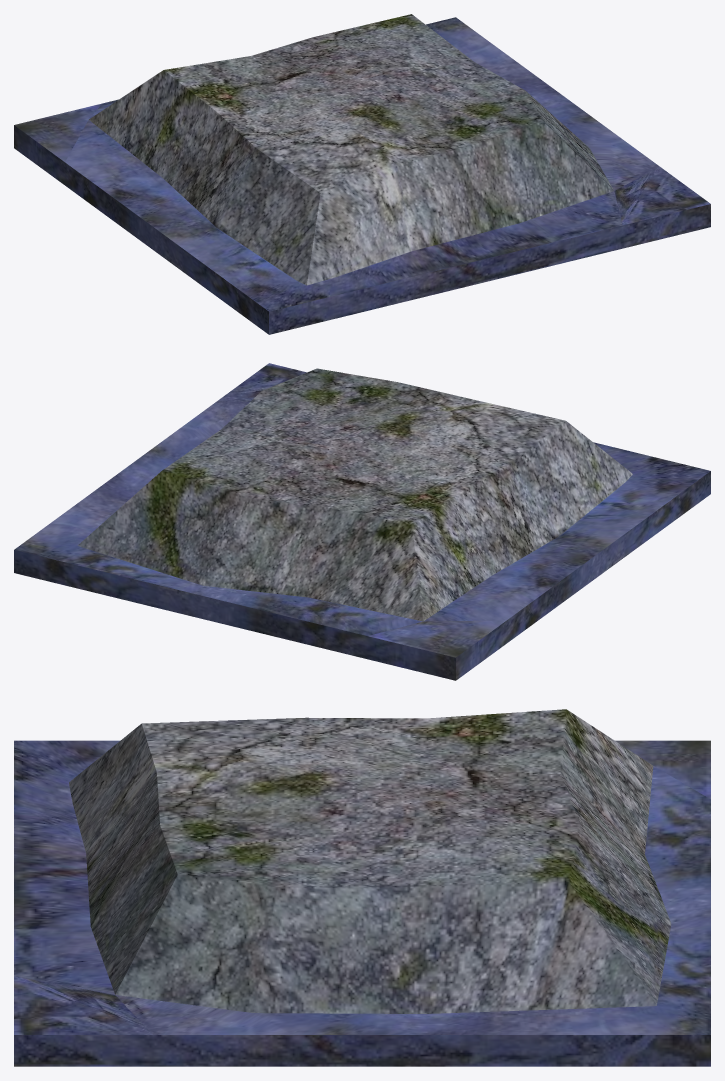
Rendered from WaterWay2.glb.
The picture shows the model from 3 angles, top to bottom: view 1: azimuth 30°, elevation 25°; view 2: azimuth 150°, elevation 25°; view 3: azimuth 270°, elevation 25°; orthographic projection. The views are drawn at different scales.
Visible parts, largest first — view 1: Cube; view 2: Cube; view 3: Cube.
Boxes of the visible parts, <box> form: Cube: <box>14,14,710,334</box>; Cube: <box>14,363,710,680</box>; Cube: <box>14,709,710,1066</box>.
Size of the model in its own units: 2 by 0.4083 by 2.
Materials: 1 (1 with a texture image).
